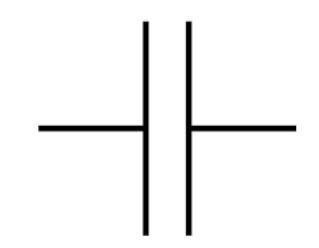Capacitor: (103, 24, 224, 237)
